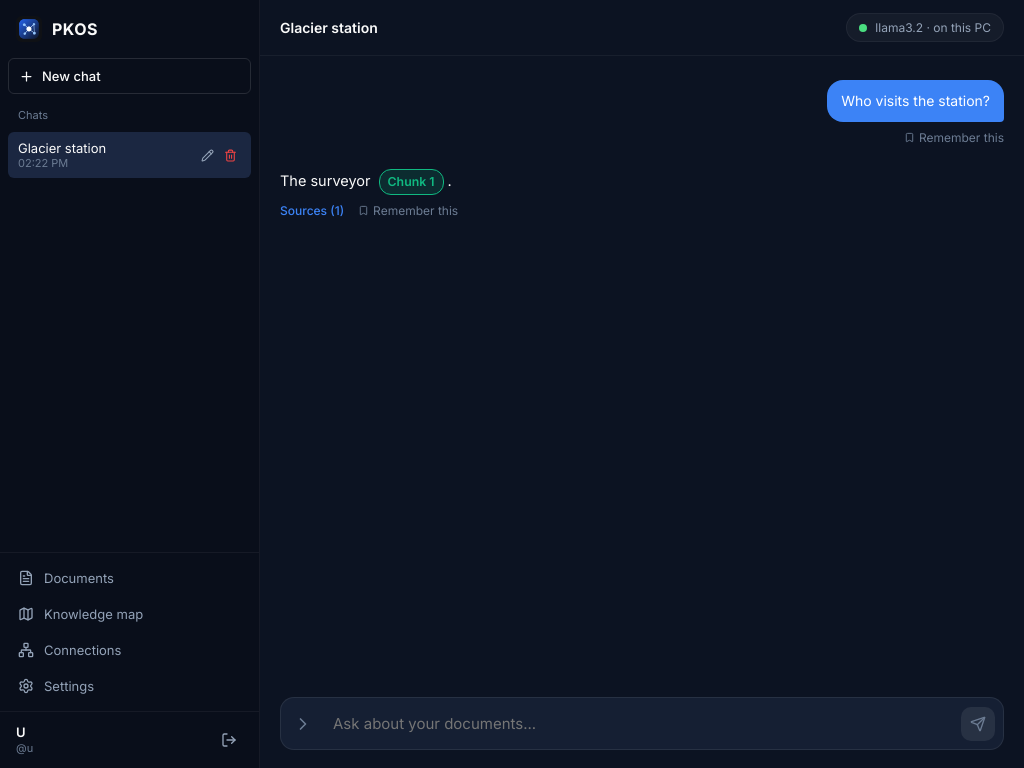
Test: the main screen › tapping a citation opens Sources at that passage
The width and height of the screenshot is (1024, 768).
Click the button "Chunk 1".
click(411, 182)  # box [378,169,444,195]
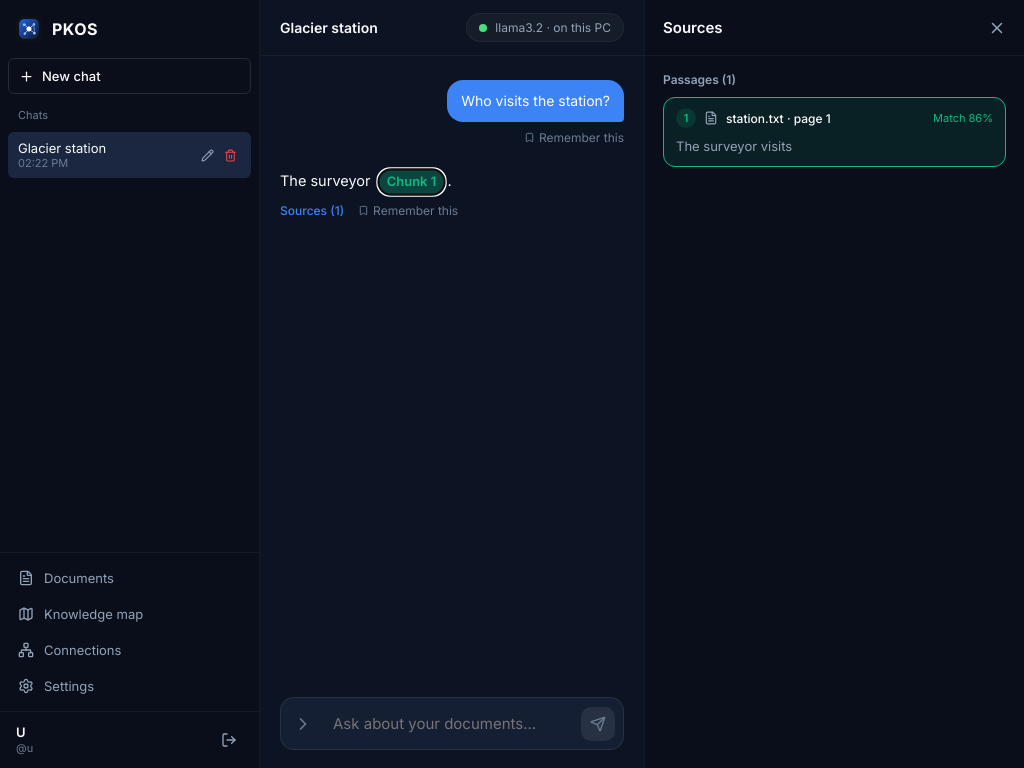
Now the element "Sources" is shown, box [644,0,1023,767]
